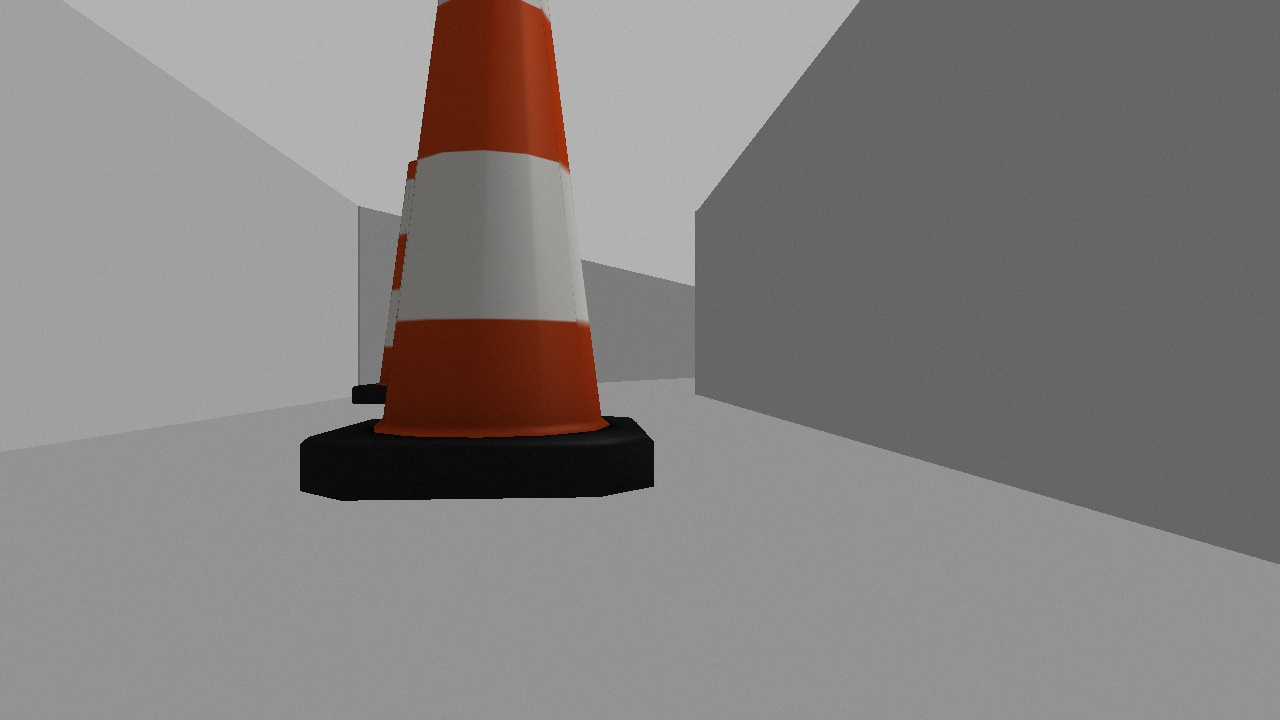barricade: (297, 6, 654, 503)
